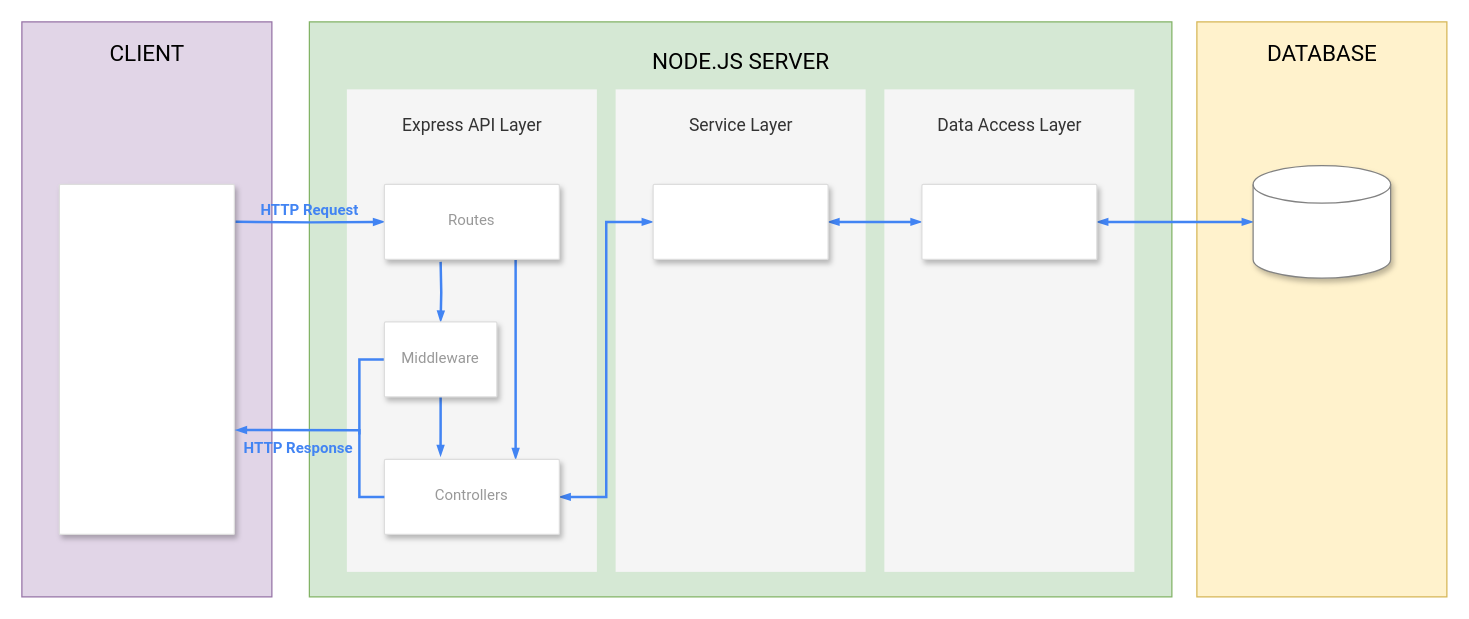
This 1469x619 diagram has some shape labels left out. Each missing label, with the centre of its shape:
Browser JavaScript: the point at 147,360
Database Access Queries: the point at 1010,223
Services: the point at 741,223
SQLite Database: the point at 1322,223
